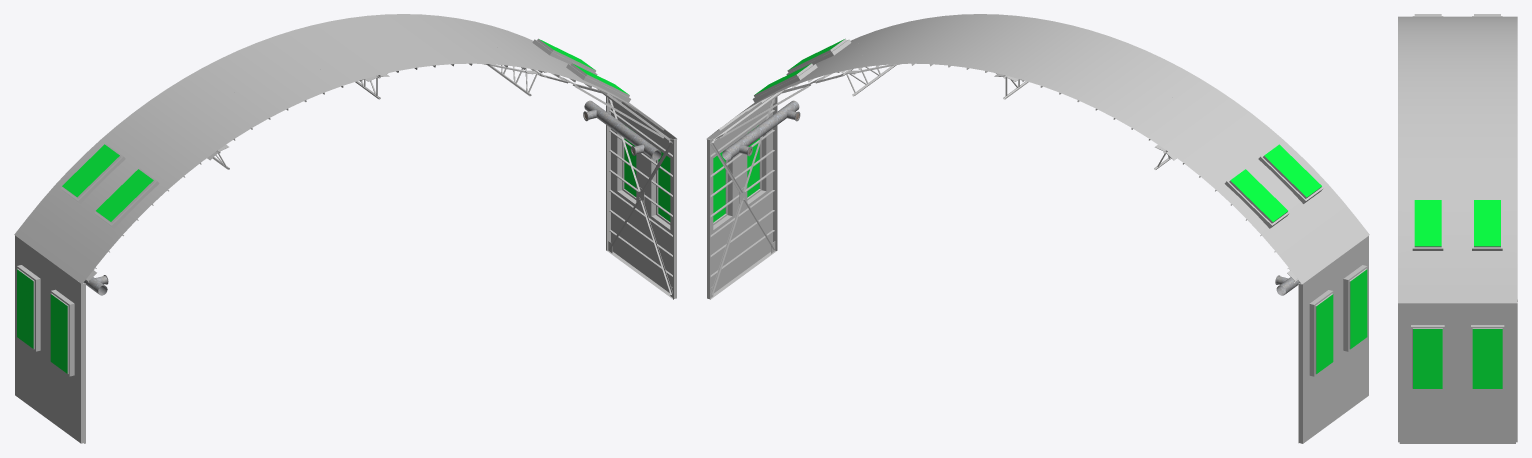
Rendered from mesh_roof_02.FBX.
3 renders of one model, left to right at view 1: azimuth 30°, elevation 25°; view 2: azimuth 150°, elevation 25°; view 3: azimuth 270°, elevation 25°, orthographic. The views are drawn at different scales.
Parts seen in each view (by area): view 1: Object024, Object011; view 2: Object024, Object011; view 3: Object024, Object011.
Boxes of the visible parts, x1,y1,x2,y2 form: Object024: (14, 14, 677, 443); Object011: (17, 39, 670, 373); Object024: (706, 14, 1369, 443); Object011: (713, 39, 1367, 373); Object024: (1398, 14, 1517, 443); Object011: (1413, 200, 1502, 388).
Bounding box in the file's own units: 51.66 × 24.12 × 10.04.
